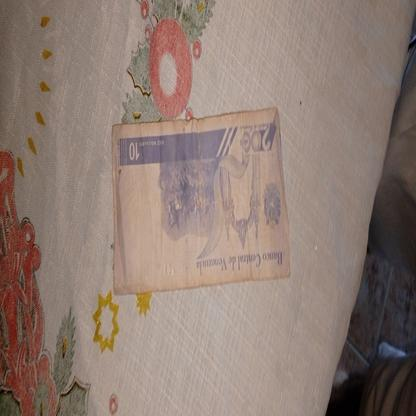ten-back-vef: (112, 106, 292, 295)
